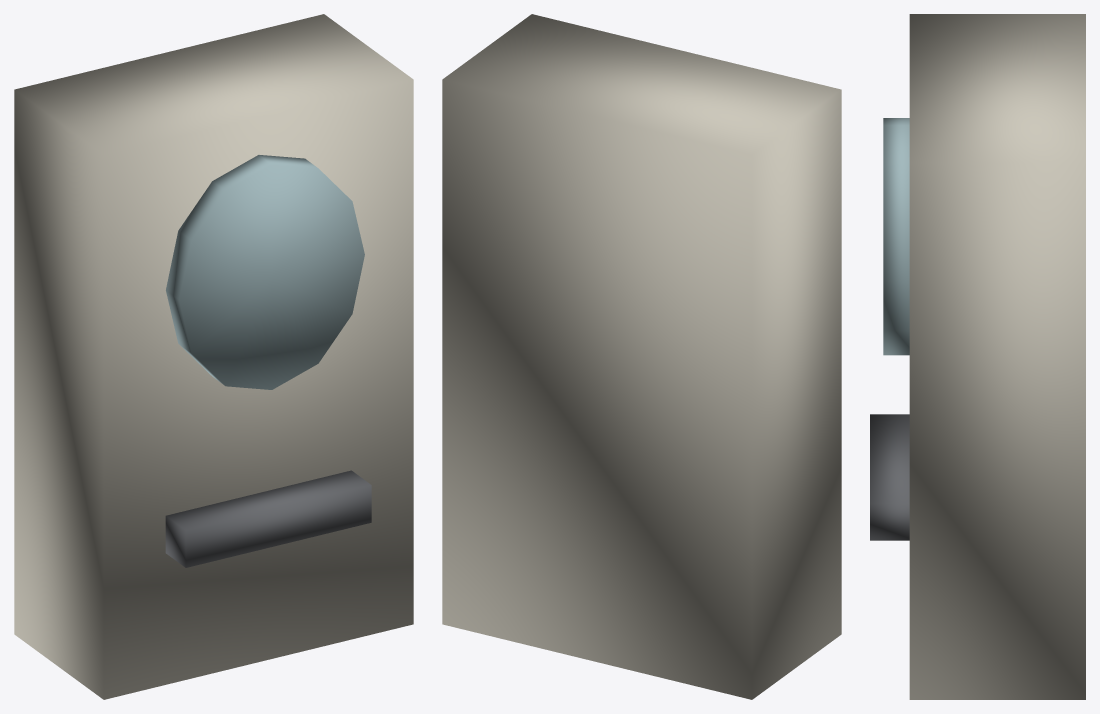
File: factory_time_clock__tall.glb
3 views of the same model, side by side, from view 1: azimuth 30°, elevation 25°; view 2: azimuth 150°, elevation 25°; view 3: azimuth 270°, elevation 25° (orthographic).
Visible parts, largest first — view 1: world; view 2: world; view 3: world.
Part boxes in pixels (bbox=[...]): world: bbox=[14, 14, 413, 699]; world: bbox=[442, 14, 841, 699]; world: bbox=[870, 14, 1085, 699].
Bounding box in the file's own units: 0.4 × 0.6728 × 0.245.
